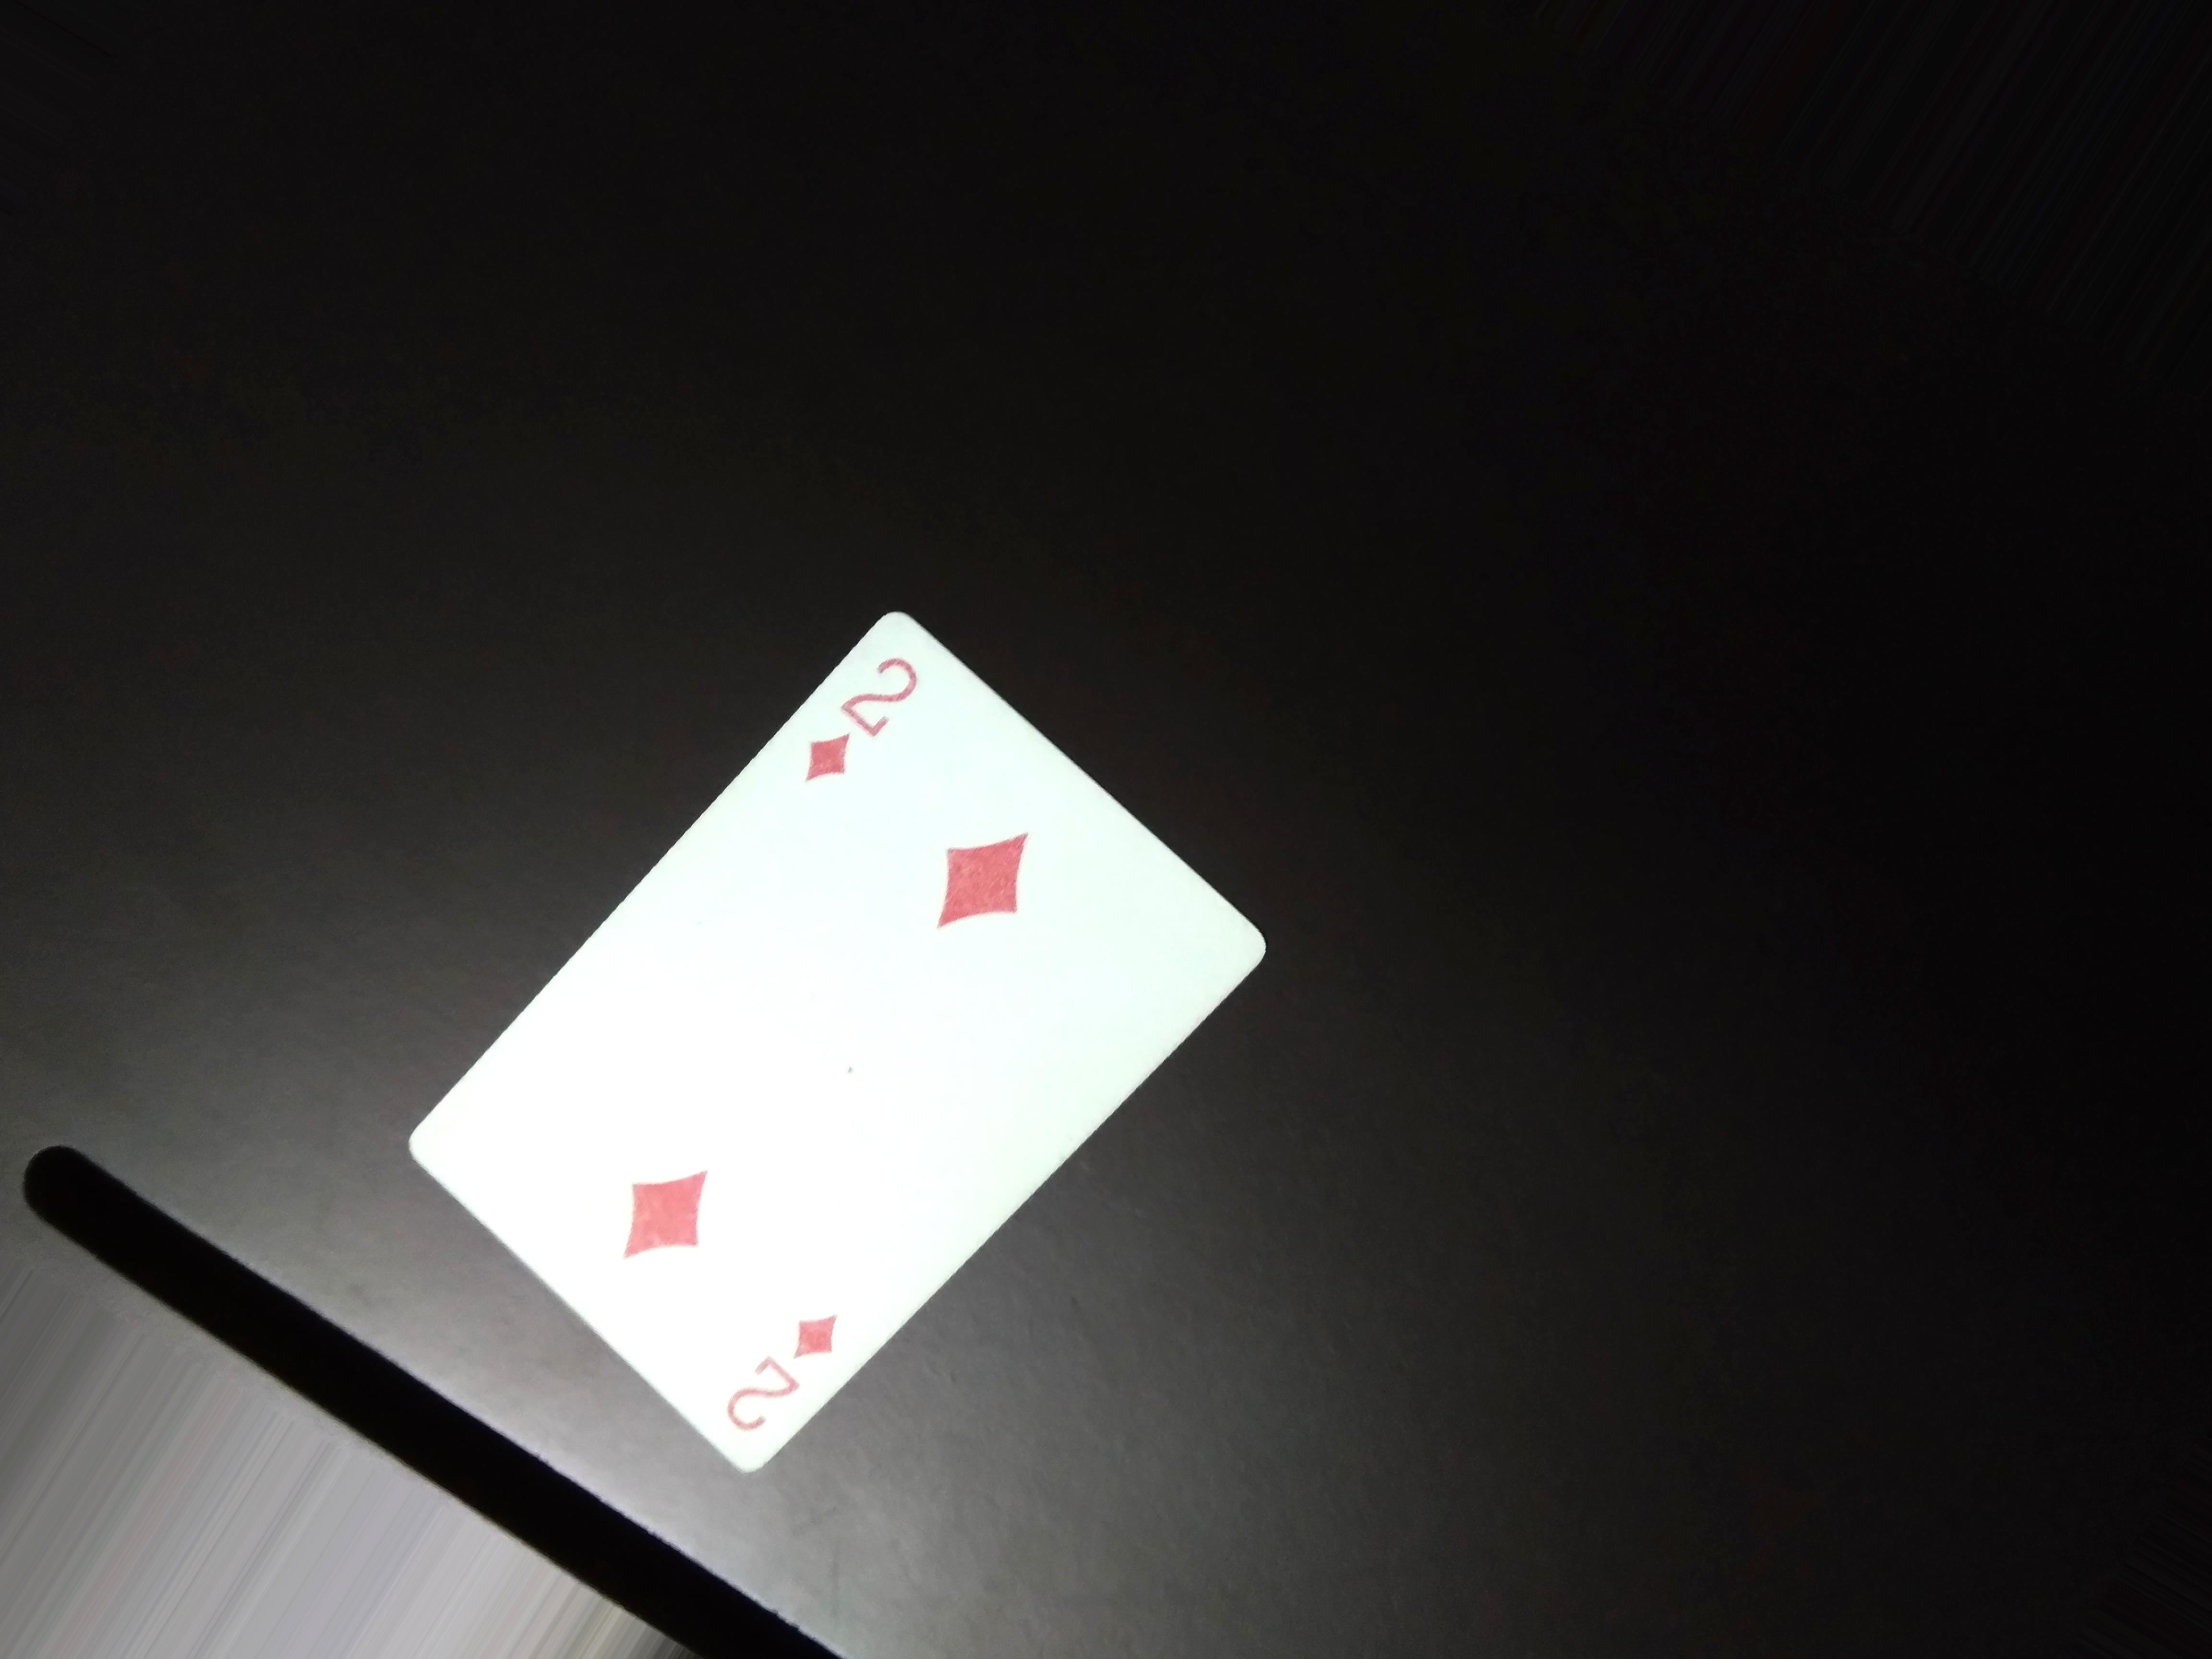2D: (799, 640, 958, 772)
